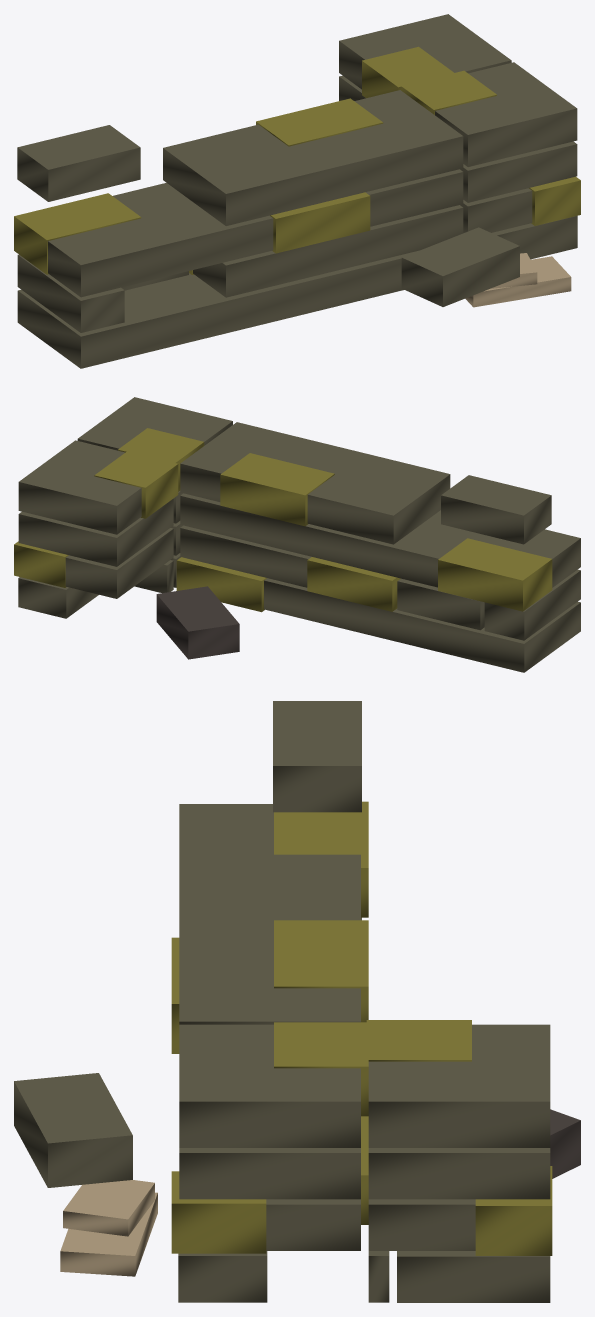
File: SM_SacosRemateEspejo_v2_Irregular_e1_Danado_LOD1.fbx
3 views of the same model, one above another, from view 1: azimuth 30°, elevation 25°; view 2: azimuth 150°, elevation 25°; view 3: azimuth 270°, elevation 25° (orthographic). The views are drawn at different scales.
Parts seen in each view (by area): view 1: SM_sacos_piezas_v29_LOD1; view 2: SM_sacos_piezas_v29_LOD1; view 3: SM_sacos_piezas_v29_LOD1.
Boxes of the visible parts, x1,y1,x2,y2 form: SM_sacos_piezas_v29_LOD1: [14, 14, 580, 368]; SM_sacos_piezas_v29_LOD1: [14, 397, 580, 672]; SM_sacos_piezas_v29_LOD1: [14, 701, 580, 1302].
Bounding box in the file's own units: 4.41 × 1.49 × 2.99.
